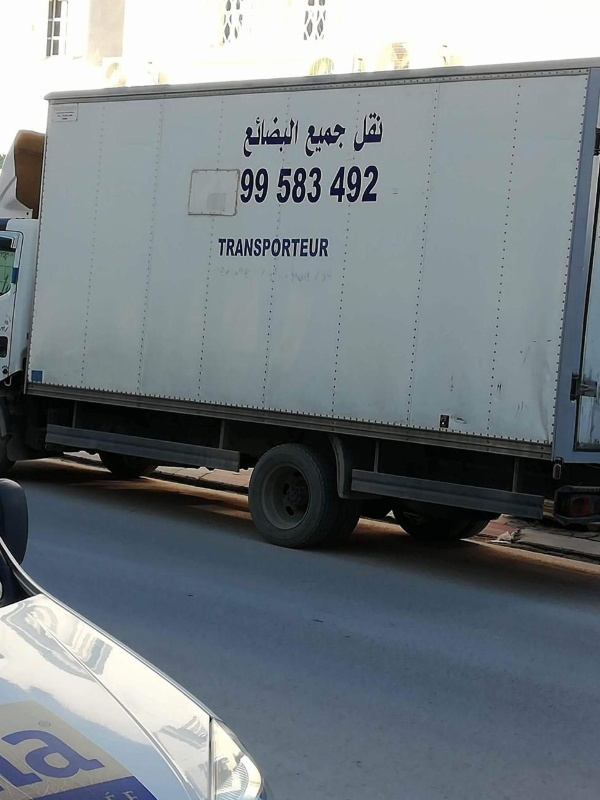text: (17, 712, 32, 799), (33, 712, 48, 799), (49, 712, 64, 799), (65, 712, 80, 799), (81, 712, 96, 799), (97, 712, 112, 799), (2, 712, 16, 799), (257, 116, 272, 157), (273, 116, 288, 157), (289, 166, 304, 205), (305, 166, 320, 205), (289, 116, 303, 157), (337, 165, 352, 203), (353, 165, 368, 203), (369, 111, 383, 151), (241, 167, 256, 204), (321, 122, 336, 158), (244, 116, 256, 157), (356, 111, 368, 151), (276, 166, 288, 205), (257, 167, 269, 204), (308, 122, 320, 158), (337, 122, 348, 158), (369, 165, 379, 203), (225, 237, 240, 257), (241, 237, 256, 257), (257, 237, 272, 257), (273, 237, 288, 257), (289, 237, 304, 257), (305, 237, 320, 257), (330, 165, 336, 203), (321, 237, 329, 257), (218, 237, 224, 257), (113, 712, 114, 799), (321, 166, 322, 205), (65, 114, 74, 118), (57, 114, 64, 118), (55, 112, 64, 114), (65, 112, 74, 114), (65, 117, 68, 121), (62, 117, 64, 121)
